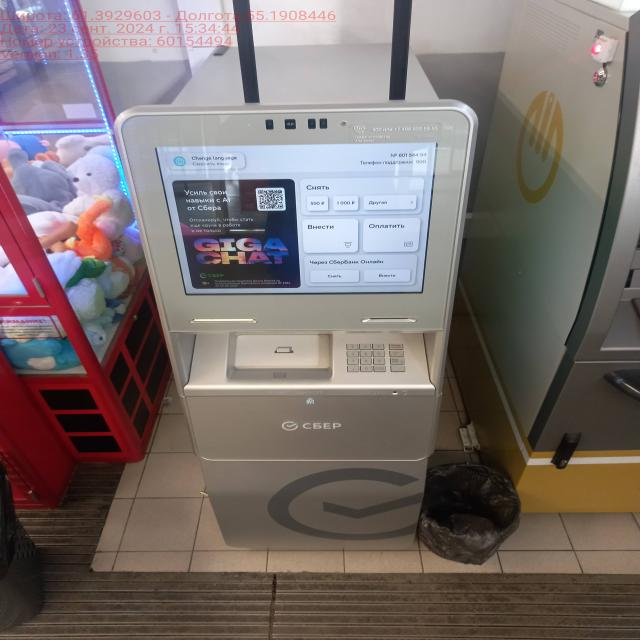bank: (113, 48, 480, 554)
